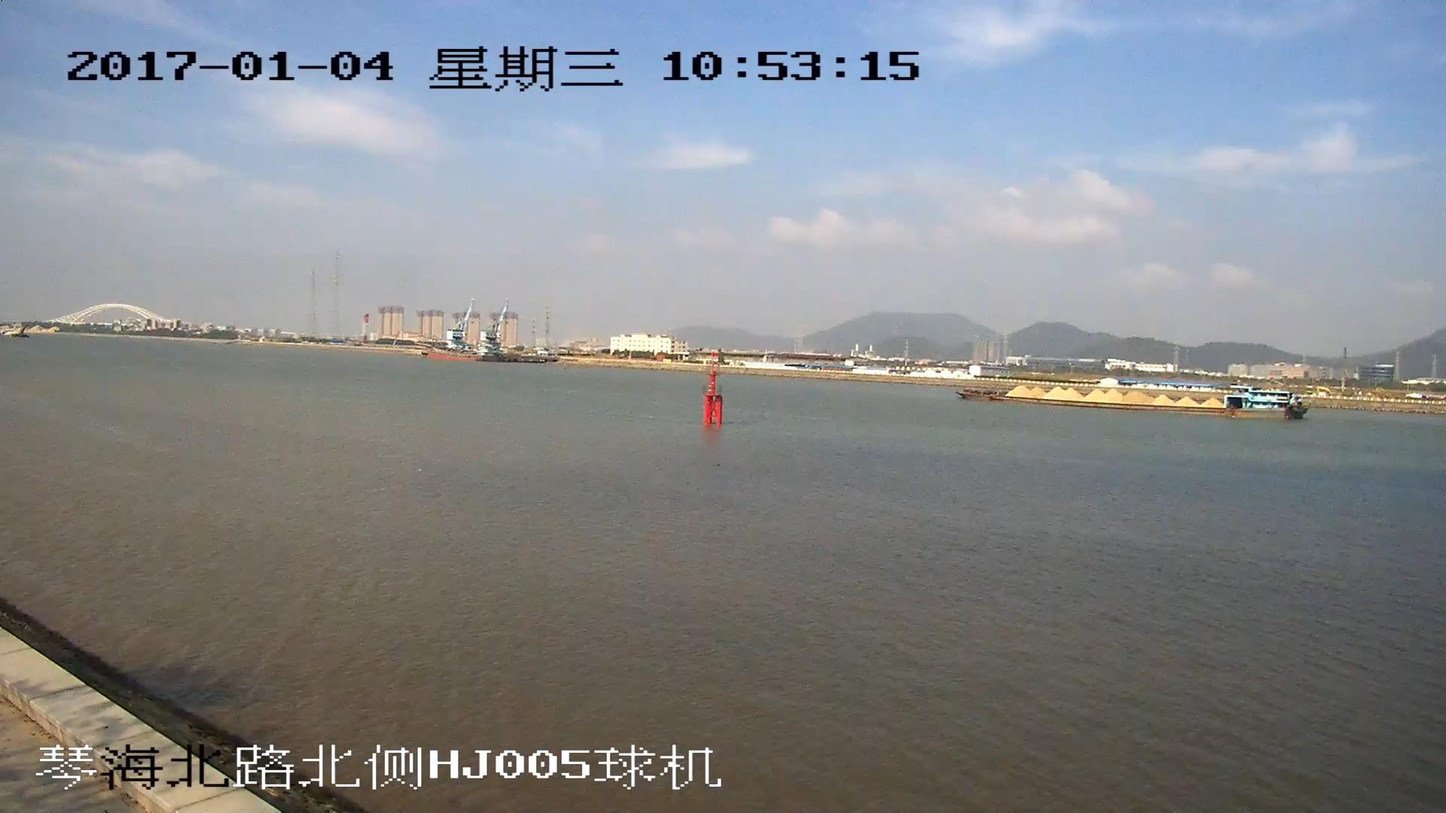ore carrier: (956, 382, 1306, 419)
